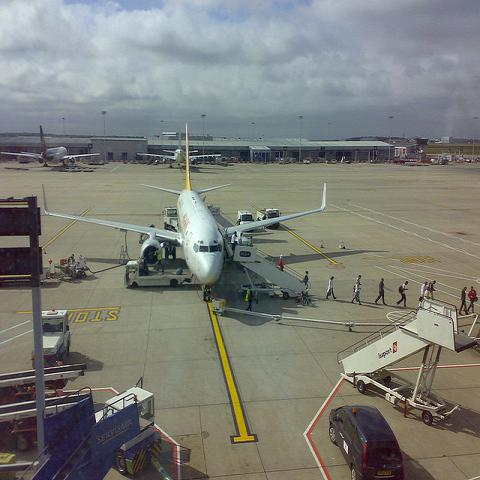car: (329, 402, 406, 478), (17, 160, 32, 165), (330, 159, 338, 163), (463, 158, 466, 162)
truck: (22, 383, 162, 474), (30, 309, 73, 369), (256, 208, 281, 229), (236, 209, 255, 226)
